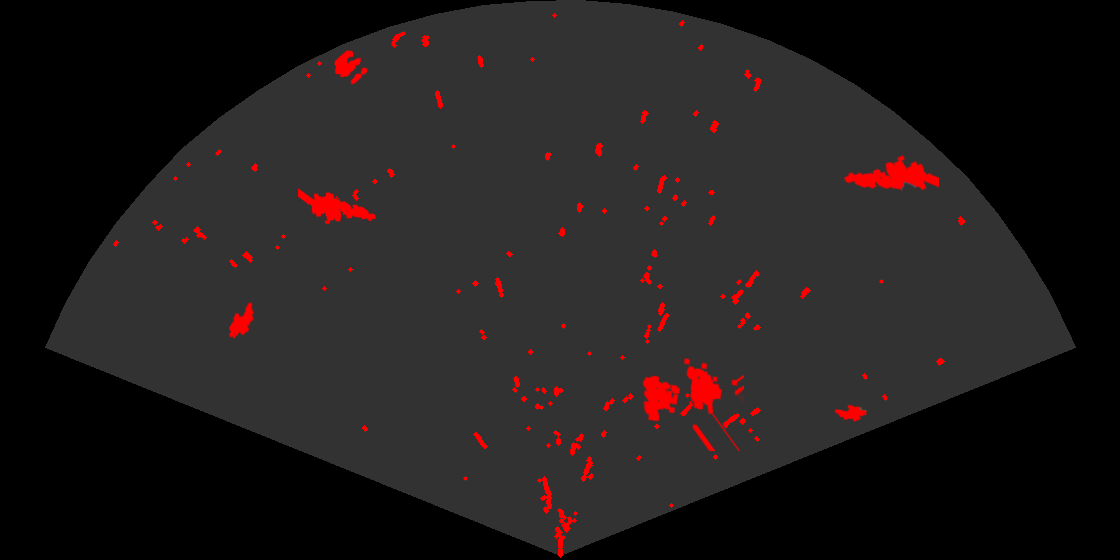AUV: (227, 301, 256, 340), (833, 403, 869, 423)
ball: (333, 49, 369, 86)
cage: (641, 356, 744, 451)
frogman: (842, 153, 939, 192), (298, 187, 377, 226)
